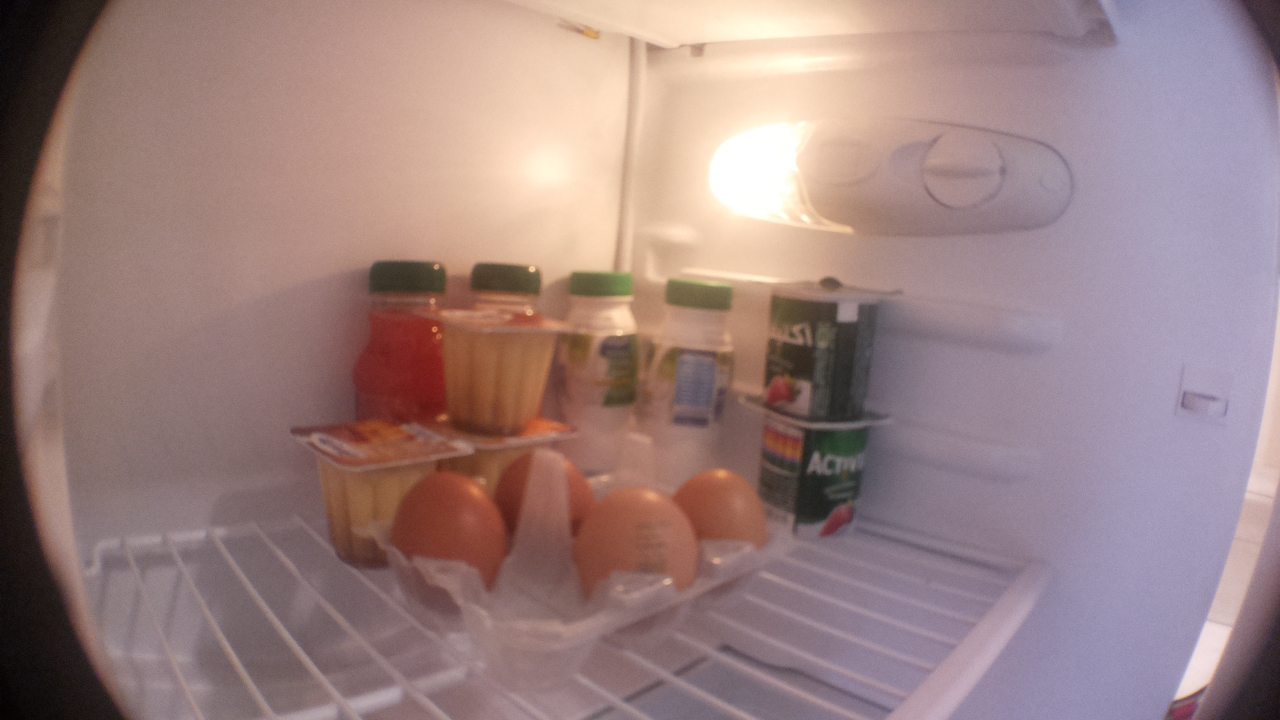caramel: (281, 406, 472, 580), (430, 301, 578, 444), (434, 398, 580, 513)
egg: (562, 488, 707, 626), (390, 464, 515, 624), (664, 462, 785, 577), (505, 450, 602, 551)
juice: (354, 252, 459, 424), (467, 255, 550, 311)
laban: (557, 264, 649, 470), (655, 280, 741, 474)
yoghurt: (724, 395, 899, 543), (753, 270, 922, 421)
